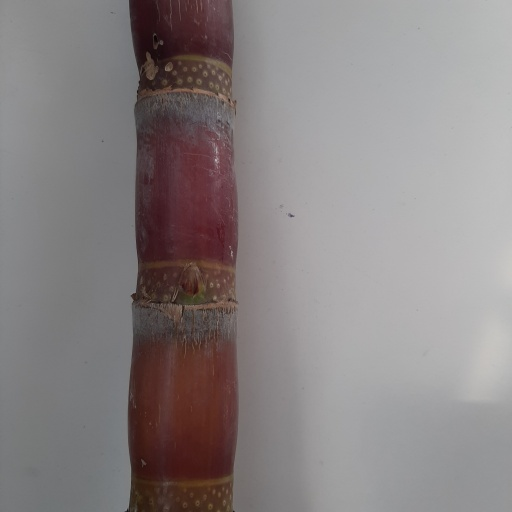Bud: (179, 263, 204, 298)
